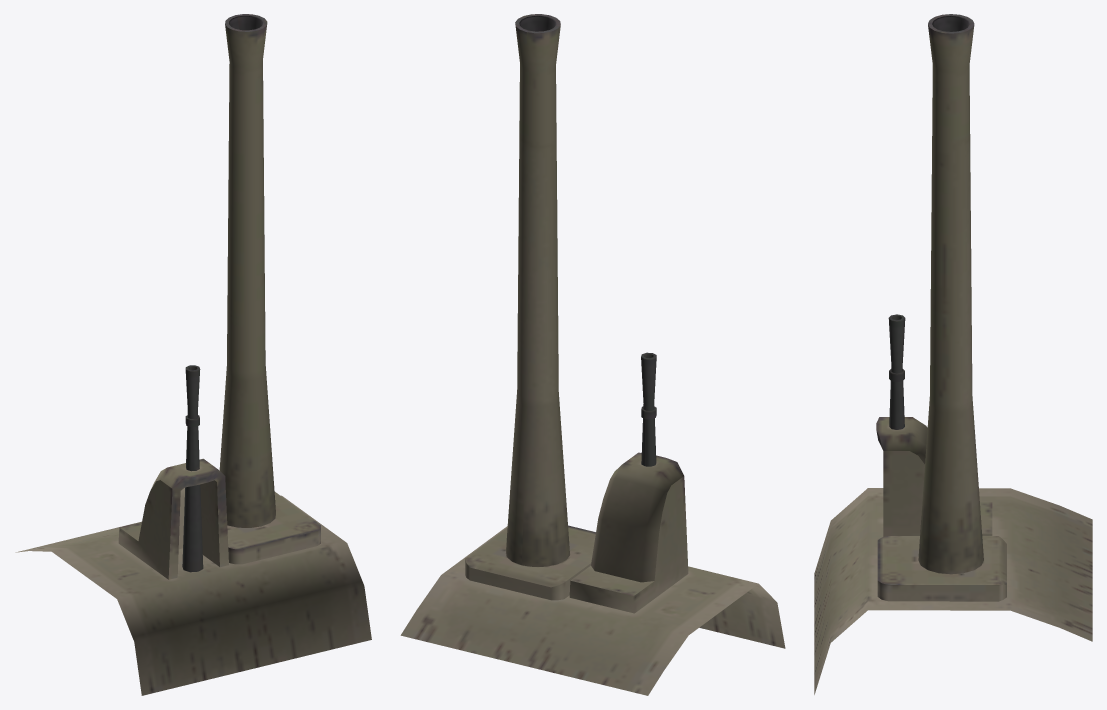
The model's file is Gun_05.glb.
3 renders of one model, left to right at view 1: azimuth 30°, elevation 25°; view 2: azimuth 150°, elevation 25°; view 3: azimuth 270°, elevation 25°, orthographic. The views are drawn at different scales.
Parts seen in each view (by area): view 1: set_0_group_0; view 2: set_0_group_0; view 3: set_0_group_0.
Part boxes in pixels (left/top/right/bottom): set_0_group_0: left=15, top=14, right=371, bottom=695; set_0_group_0: left=400, top=14, right=785, bottom=695; set_0_group_0: left=814, top=14, right=1092, bottom=694.
Bounding box in the file's own units: 0.5352 × 1.3 × 0.5146.
1 material, 1 textured.
